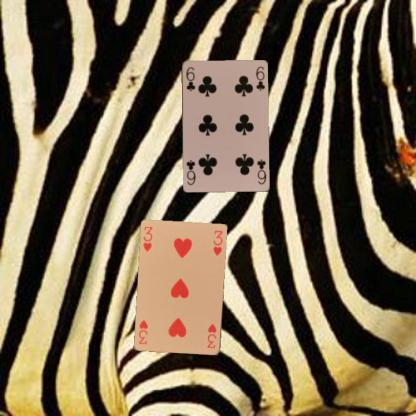3h: (140, 224, 154, 254), (204, 321, 218, 350)
6c: (254, 156, 267, 186), (183, 64, 196, 93)
